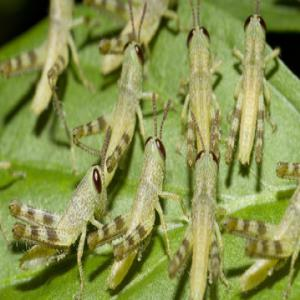locust: (106, 127, 181, 281), (101, 30, 148, 176), (185, 19, 231, 161), (242, 11, 271, 157)
